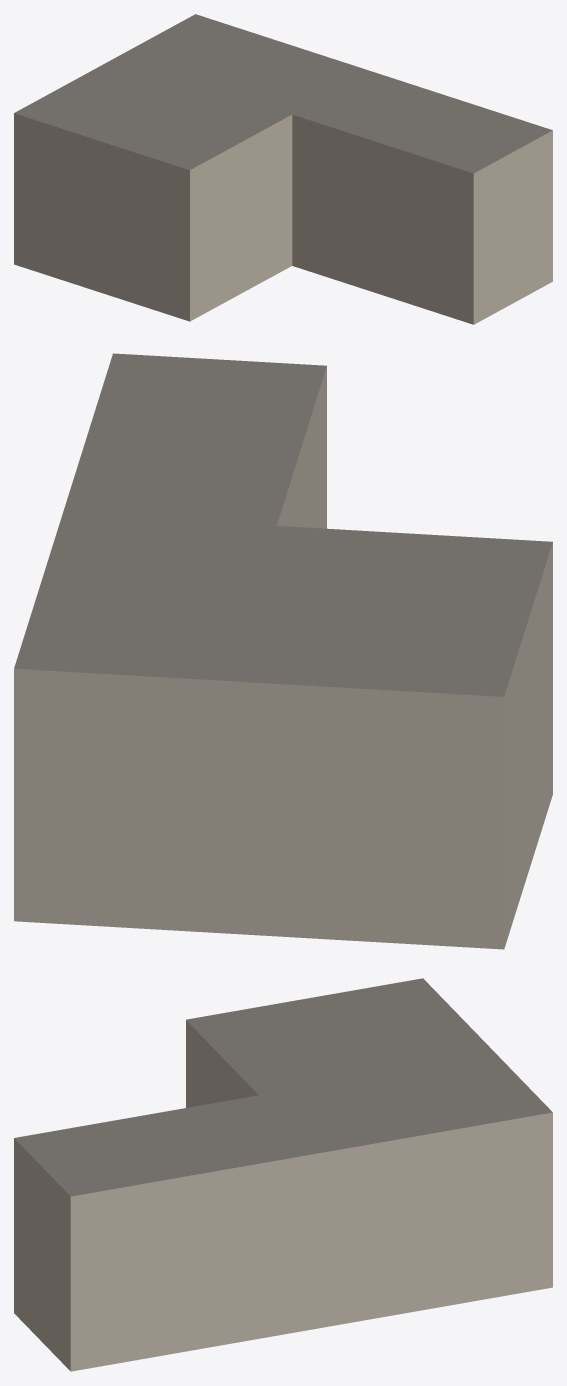
3 views of the same model, one above another, from view 1: azimuth 30°, elevation 25°; view 2: azimuth 150°, elevation 25°; view 3: azimuth 270°, elevation 25° (orthographic). The views are drawn at different scales.
Parts seen in each view (by area): view 1: HP-w1200741188; view 2: HP-w1200741188; view 3: HP-w1200741188.
Part boxes in pixels (x1,y1,x2,y2): HP-w1200741188: [14, 14, 552, 324]; HP-w1200741188: [14, 353, 552, 949]; HP-w1200741188: [14, 978, 552, 1371].
Size of the model in its own units: 48.13 by 18 by 50.21.
